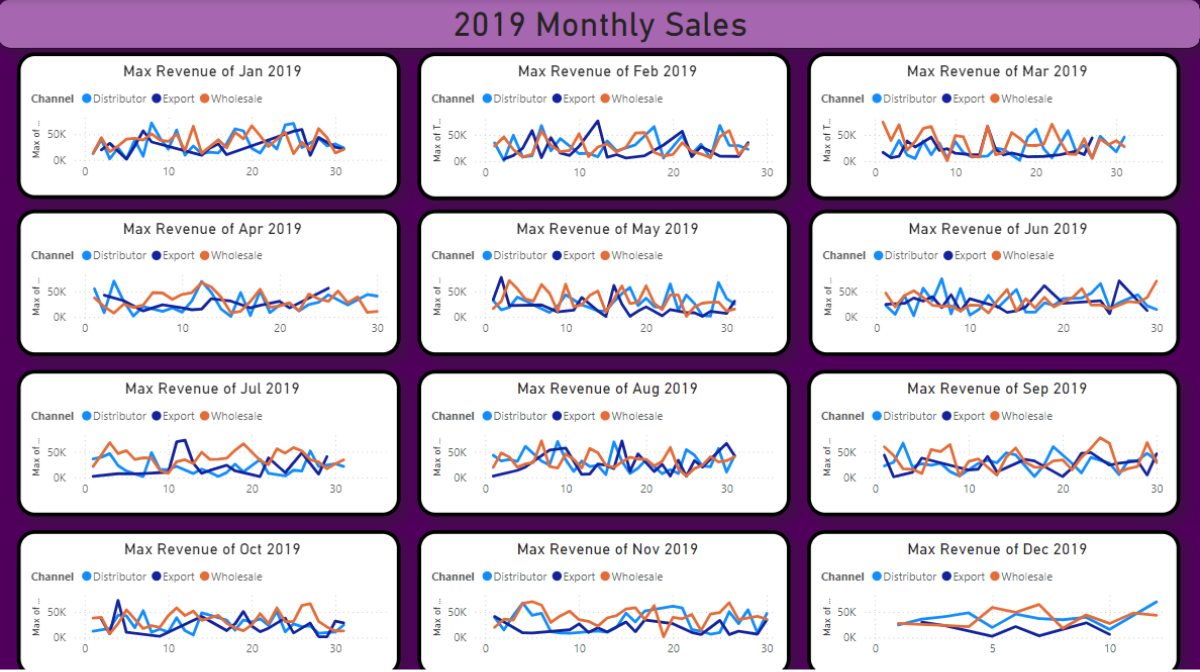

Layout of this report page (visuals, bound fields, positions):
{"tool":"powerbi","page":{"name":"Page 5","canvas":[1280,720],"ordinal":4},"visuals":[{"type":"textbox","title":"2019 Monthly Sales","box":[0,0,1279.4,52.9],"z":0},{"type":"lineChart","title":"Max Revenue of Jan 2019","fields":{"Series":["Sales2019_Jan.Channel"],"Y":["Max(Sales2019_Jan.Total Revenue)"],"Category":["Sales2019_Jan.OrderDate.Variation.Date Hierarchy.Day"]},"box":[21.3,57.2,407.2,155.4],"z":1000},{"type":"lineChart","title":"Max Revenue of Feb 2019","fields":{"Series":["Sales2019_Feb.Channel"],"Y":["Max(Sales2019_Feb.Total Revenue)"],"Category":["Sales2019_Feb.OrderDate.Variation.Date Hierarchy.Day"]},"box":[446.5,57.2,395.8,157],"z":2000},{"type":"lineChart","title":"Max Revenue of Mar 2019","fields":{"Category":["Sales2019_Mar.OrderDate.Variation.Date Hierarchy.Day"],"Y":["Max(Sales2019_Mar.Total Revenue)"],"Series":["Sales2019_Mar.Channel"]},"box":[860.2,57.2,395.8,157],"z":3000},{"type":"lineChart","title":"Max Revenue of Dec 2019","fields":{"Series":["Sales2019_Dec.Channel"],"Y":["Max(Sales2019_Dec.Total Revenue)"],"Category":["Sales2019_Dec.OrderDate.Variation.Date Hierarchy.Day"]},"box":[860.2,564.2,395.8,155.4],"z":4000},{"type":"lineChart","title":"Max Revenue of Sep 2019","fields":{"Series":["Sales2019_Sep.Channel"],"Y":["Max(Sales2019_Sep.Total Revenue)"],"Category":["Sales2019_Sep.OrderDate.Variation.Date Hierarchy.Day"]},"box":[860.2,394.1,395.8,155.4],"z":5000},{"type":"lineChart","title":"Max Revenue of Jun 2019","fields":{"Series":["Sales2019_Jun.Channel"],"Y":["Max(Sales2019_Jun.Total Revenue)"],"Category":["Sales2019_Jun.OrderDate.Variation.Date Hierarchy.Day"]},"box":[861.9,224.1,394.1,155.4],"z":6000},{"type":"lineChart","title":"Max Revenue of Nov 2019","fields":{"Series":["Sales2019_Nov.Channel"],"Y":["Max(Sales2019_Nov.Total Revenue)"],"Category":["Sales2019_Nov.OrderDate.Variation.Date Hierarchy.Day"]},"box":[446.5,564.2,395.8,155.4],"z":7000},{"type":"lineChart","title":"Max Revenue of Aug 2019","fields":{"Category":["Sales2019_Aug.OrderDate.Variation.Date Hierarchy.Day"],"Y":["Max(Sales2019_Aug.Total Revenue)"],"Series":["Sales2019_Aug.Channel"]},"box":[446.5,394.1,395.8,155.4],"z":8000},{"type":"lineChart","title":"Max Revenue of May 2019","fields":{"Series":["Sales2019_May.Channel"],"Y":["Max(Sales2019_May.Total Revenue)"],"Category":["Sales2019_May.OrderDate.Variation.Date Hierarchy.Day"]},"box":[446.5,224.1,395.8,155.4],"z":9000},{"type":"lineChart","title":"Max Revenue of Apr 2019","fields":{"Category":["Sales2019_Apr.OrderDate.Variation.Date Hierarchy.Day"],"Y":["Max(Sales2019_Apr.Total Revenue)"],"Series":["Sales2019_Apr.Channel"]},"box":[21.3,224.1,407.2,155.4],"z":10000},{"type":"lineChart","title":"Max Revenue of Jul 2019","fields":{"Series":["Sales2019_Jul.Channel"],"Y":["Max(Sales2019_Jul.Total Revenue)"],"Category":["Sales2019_Jul.OrderDate.Variation.Date Hierarchy.Day"]},"box":[21.3,394.1,407.2,155.4],"z":11000},{"type":"lineChart","title":"Max Revenue of Oct 2019","fields":{"Series":["Sales2019_Oct.Channel"],"Y":["Max(Sales2019_Oct.Total Revenue)"],"Category":["Sales2019_Oct.OrderDate.Variation.Date Hierarchy.Day"]},"box":[21.3,564.2,407.2,155.4],"z":12000}]}

Visuals, with their boxes in screenshot pixels (x1, y1, x2, y2), scaled from the page's 1280x720 canvas onto the 1200x672 screenshot:
"2019 Monthly Sales" textbox: [0, 0, 1199, 49]
"Max Revenue of Jan 2019" lineChart: [20, 53, 402, 198]
"Max Revenue of Feb 2019" lineChart: [419, 53, 790, 200]
"Max Revenue of Mar 2019" lineChart: [806, 53, 1178, 200]
"Max Revenue of Dec 2019" lineChart: [806, 527, 1178, 671]
"Max Revenue of Sep 2019" lineChart: [806, 368, 1178, 513]
"Max Revenue of Jun 2019" lineChart: [808, 209, 1178, 354]
"Max Revenue of Nov 2019" lineChart: [419, 527, 790, 671]
"Max Revenue of Aug 2019" lineChart: [419, 368, 790, 513]
"Max Revenue of May 2019" lineChart: [419, 209, 790, 354]
"Max Revenue of Apr 2019" lineChart: [20, 209, 402, 354]
"Max Revenue of Jul 2019" lineChart: [20, 368, 402, 513]
"Max Revenue of Oct 2019" lineChart: [20, 527, 402, 671]
